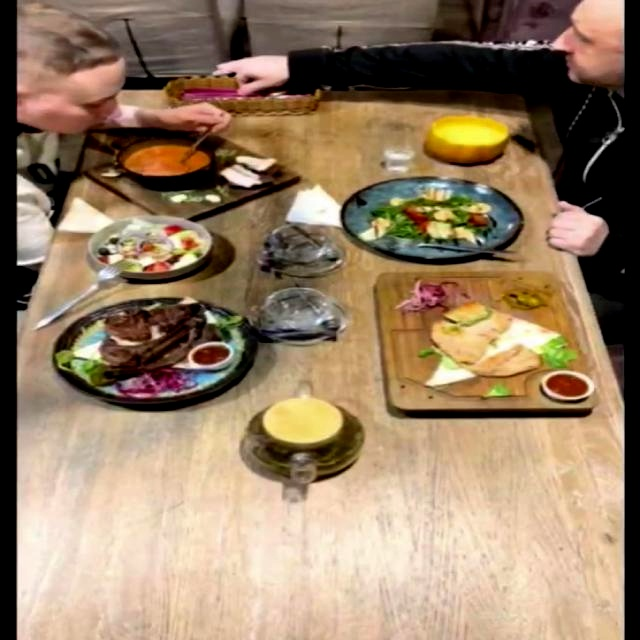meat: (377, 271, 598, 412), (51, 296, 261, 405)
salad: (344, 176, 527, 260), (85, 213, 214, 280)
soup: (79, 128, 301, 220), (426, 116, 511, 164)
tea: (244, 397, 367, 479)
